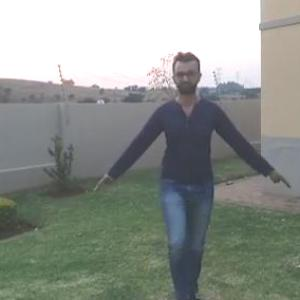land: (108, 54, 274, 278)
